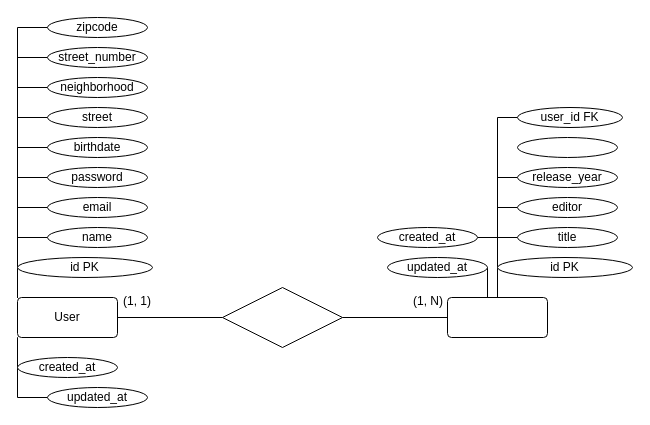
The diagram is 650 pixels wide and 425 high, and some of its shapes have lost their labels. Here are the shapes that lost their labels. From the top down, the centre of each, then its label:
At point (567, 147): "author".
At point (282, 317): "Buy".
At point (497, 317): "Book".
